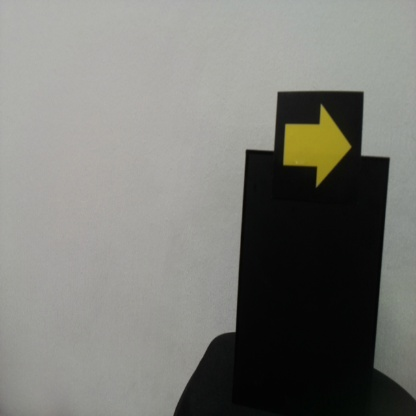id_3: (278, 93, 362, 201)
